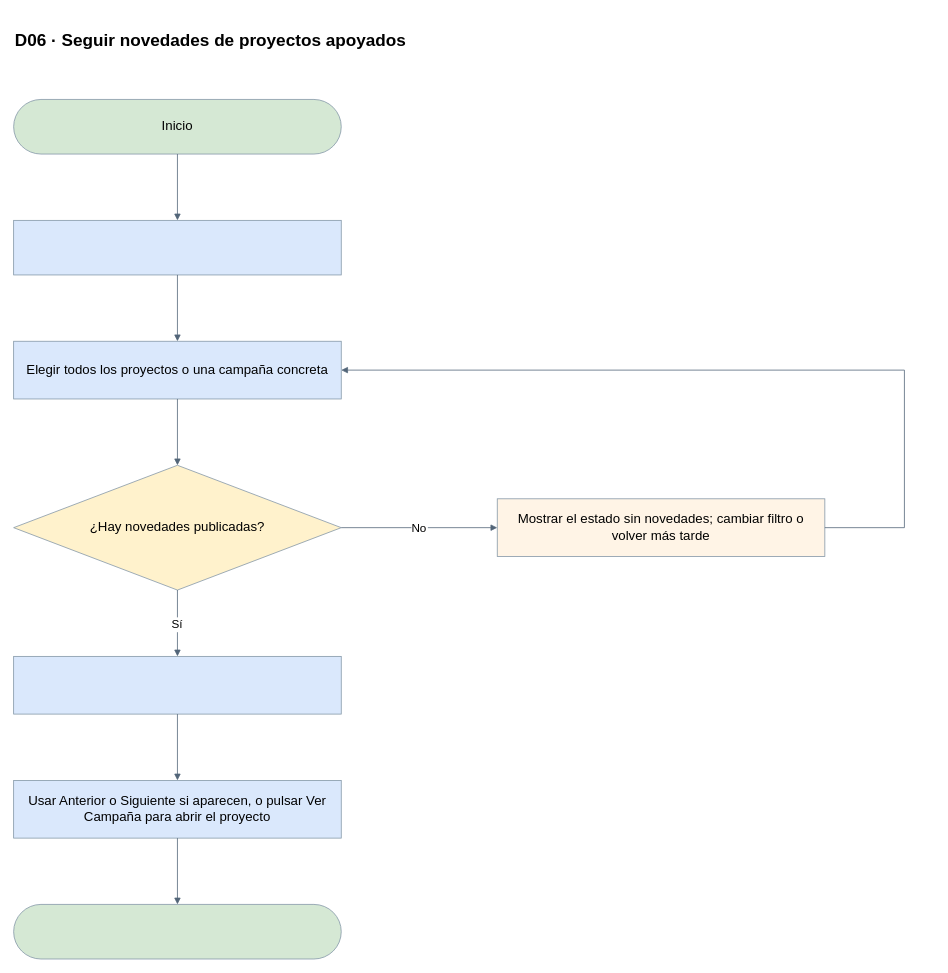
This 948x973 diagram has some shape labels left out. Each missing label, with the centre of its shape:
"Abrir Novedades en Mi Panel" belongs at point 177,247.
"Fin" belongs at point 177,931.
"Leer las publicaciones y consultar sus imágenes o videos" belongs at point 177,685.
